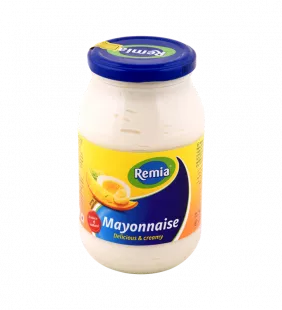REMIA: (68, 29, 213, 284)
